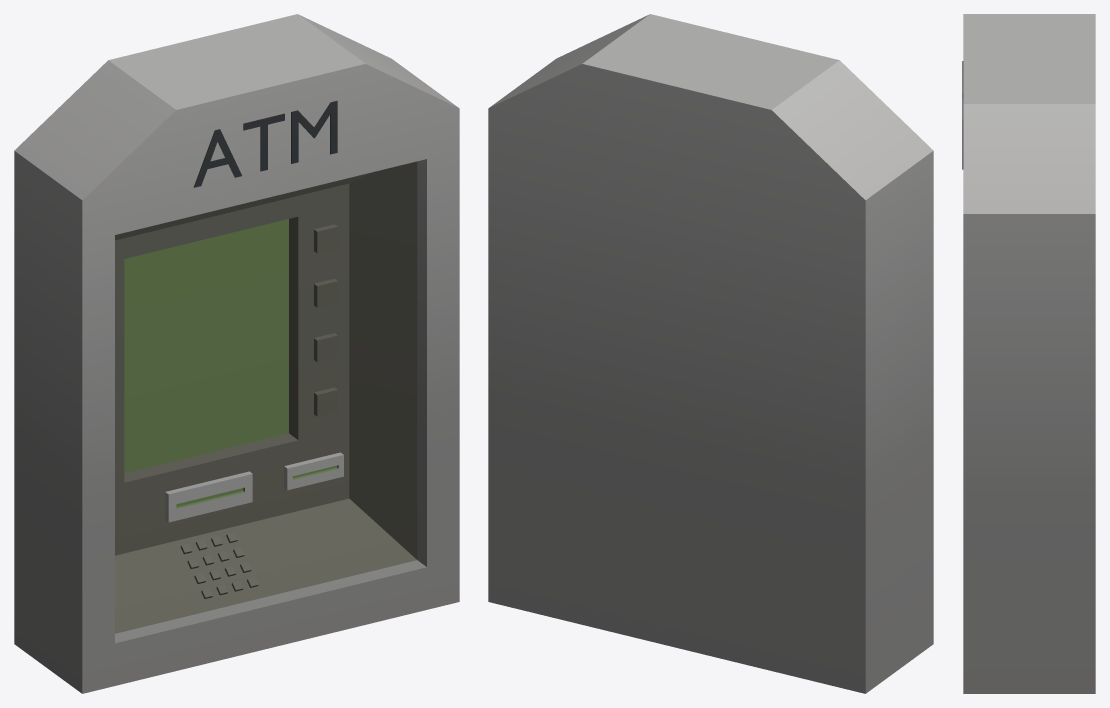
The model's file is ATM_03.fbx.
3 renders of one model, left to right at view 1: azimuth 30°, elevation 25°; view 2: azimuth 150°, elevation 25°; view 3: azimuth 270°, elevation 25°, orthographic. The views are drawn at different scales.
Parts seen in each view (by area): view 1: ATM_03; view 2: ATM_03; view 3: ATM_03.
Part boxes in pixels (box(x1,y1,x2,y2)): ATM_03: box(14, 14, 459, 693); ATM_03: box(488, 14, 933, 693); ATM_03: box(962, 14, 1095, 693).
Bounding box in the file's own units: 0.6142 × 0.8728 × 0.1933.
